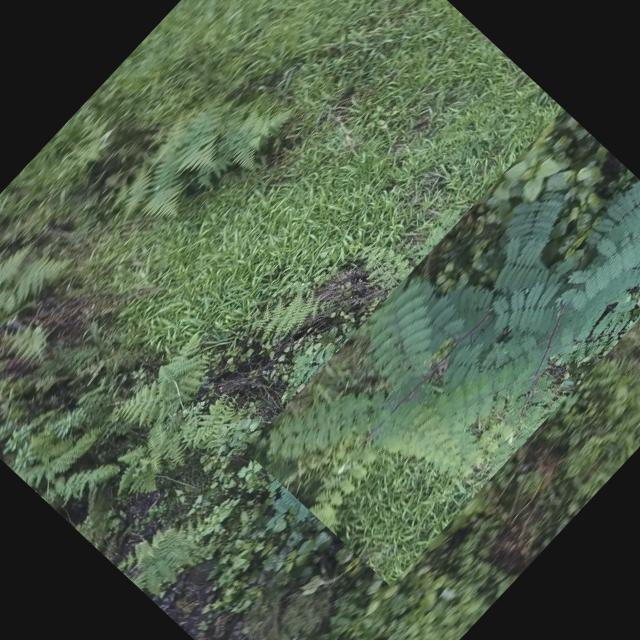Mysore-Thorn-Weed: (244, 109, 640, 586)
